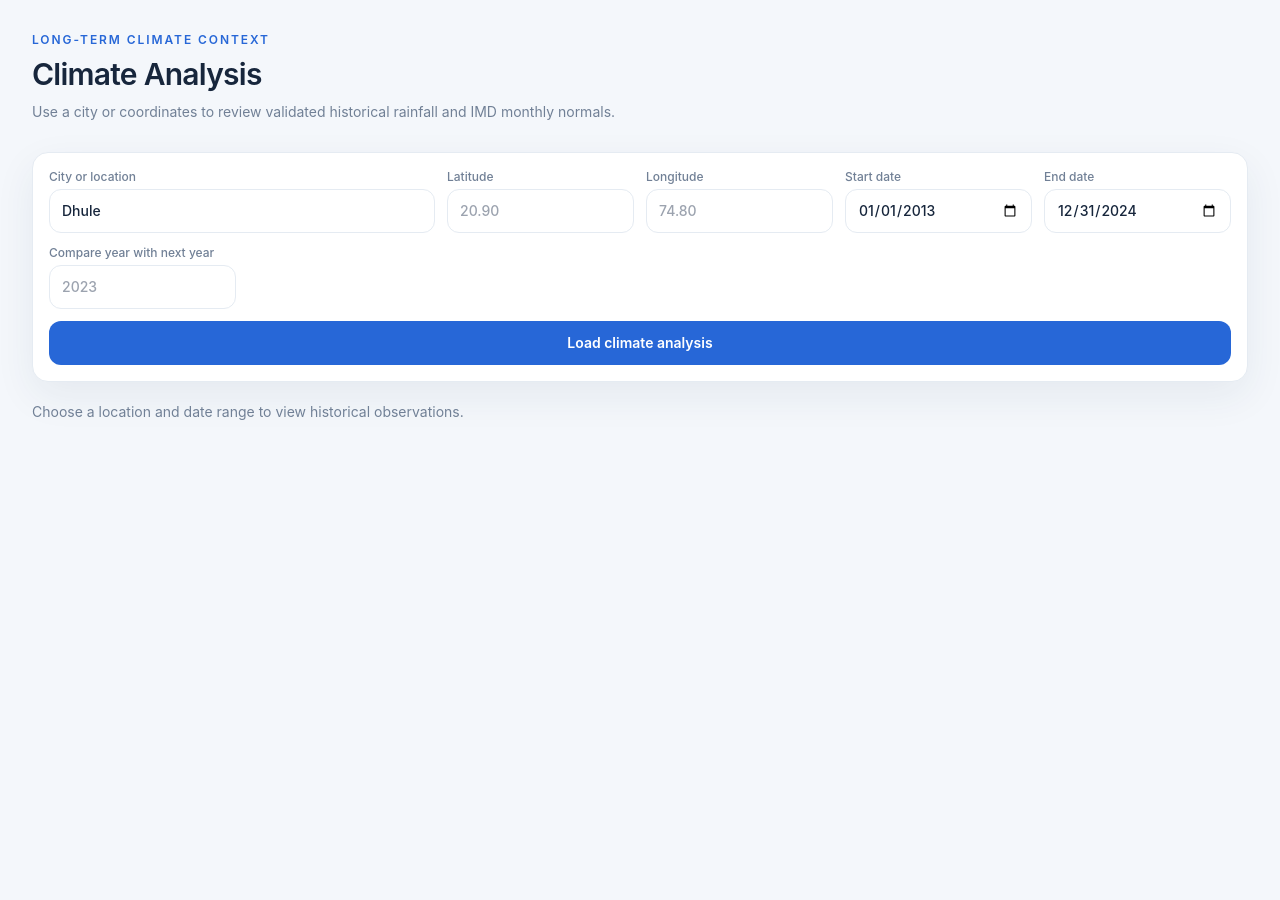
Climate Analysis page › resolves a city and renders historical rainfall, climatology, anomaly, trend and provenance
Click the button "Load climate analysis" at [640, 343], box [49,321,1231,365]
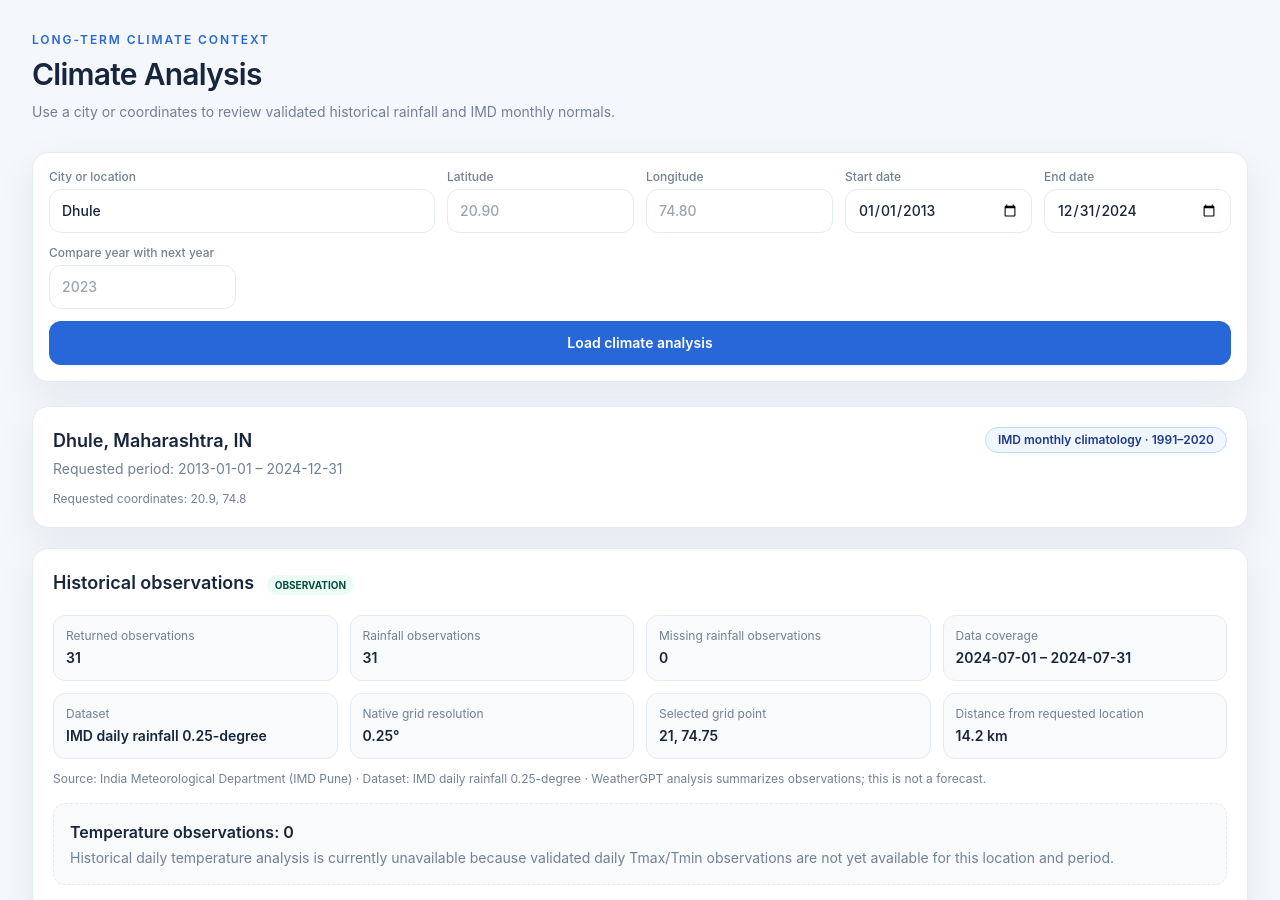
Expected: the text "IMD monthly climatology · 1991–2020" is shown, [985,427,1227,453]
Expected: the text "India Meteorological Department" is shown, [100,771,352,786]
Expected: the text "Historical daily temperature analysis is currently unavailable" is shown, [70,849,1114,866]
